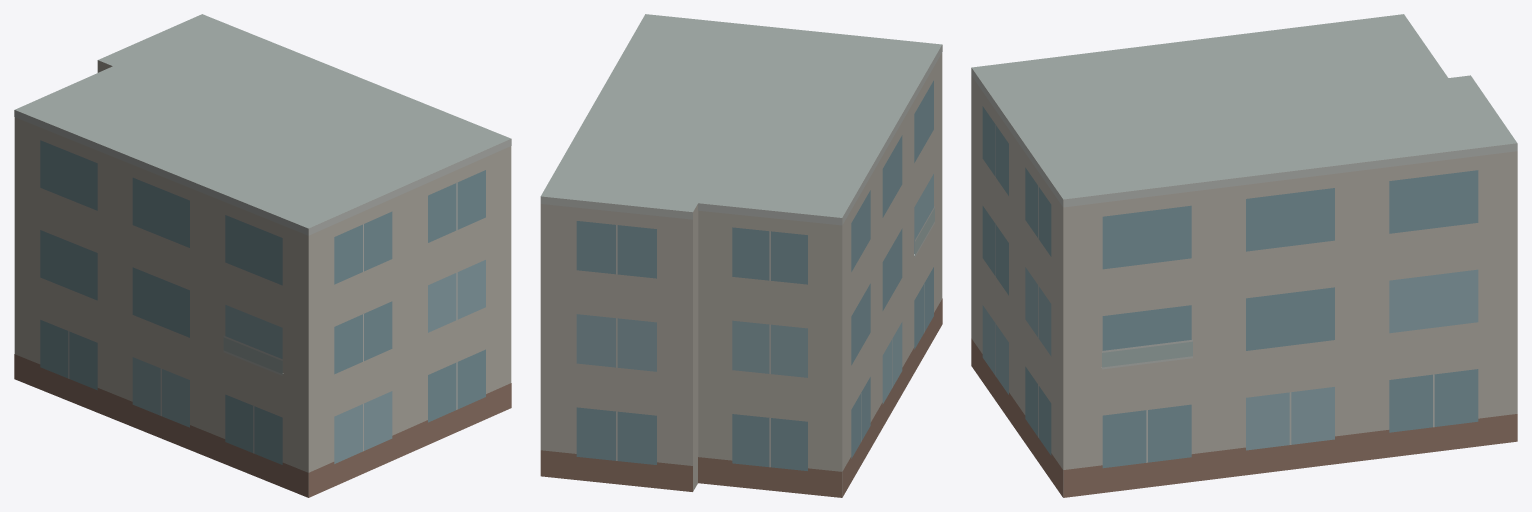
Rendered from survey-upis-32772859.glb.
3 renders of one model, left to right at view 1: azimuth 30°, elevation 25°; view 2: azimuth 150°, elevation 25°; view 3: azimuth 270°, elevation 25°, orthographic. The views are drawn at different scales.
Parts seen in each view (by area): view 1: survey-upis-32772859.tmp; view 2: survey-upis-32772859.tmp; view 3: survey-upis-32772859.tmp.
Part boxes in pixels (bbox=[...]): survey-upis-32772859.tmp: bbox=[14, 14, 511, 497]; survey-upis-32772859.tmp: bbox=[540, 14, 942, 497]; survey-upis-32772859.tmp: bbox=[971, 14, 1517, 497].
Bounding box in the file's own units: 12.21 × 9.15 × 15.19.
